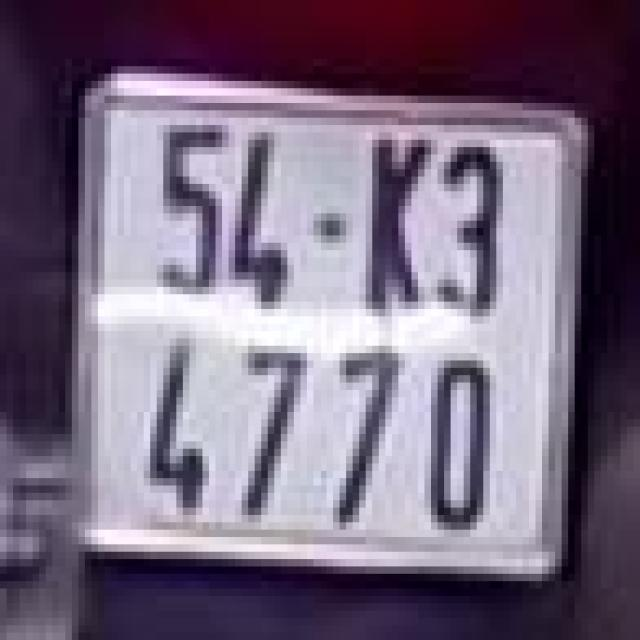0: (421, 346, 506, 537)
3: (434, 121, 506, 328)
4: (137, 324, 209, 522), (232, 125, 297, 309)
5: (147, 110, 225, 309)
7: (228, 331, 314, 530), (320, 331, 405, 530)
K: (359, 118, 425, 309)
